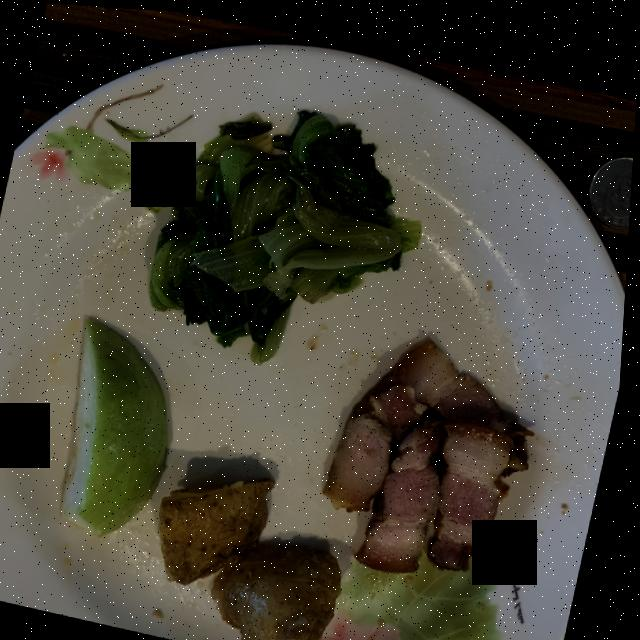coin: (590, 147, 635, 219)
fried potato: (165, 474, 348, 640)
grilled pork: (329, 332, 538, 566)
guava -sliced-: (67, 316, 173, 534)
mustard greens: (153, 106, 424, 359)
